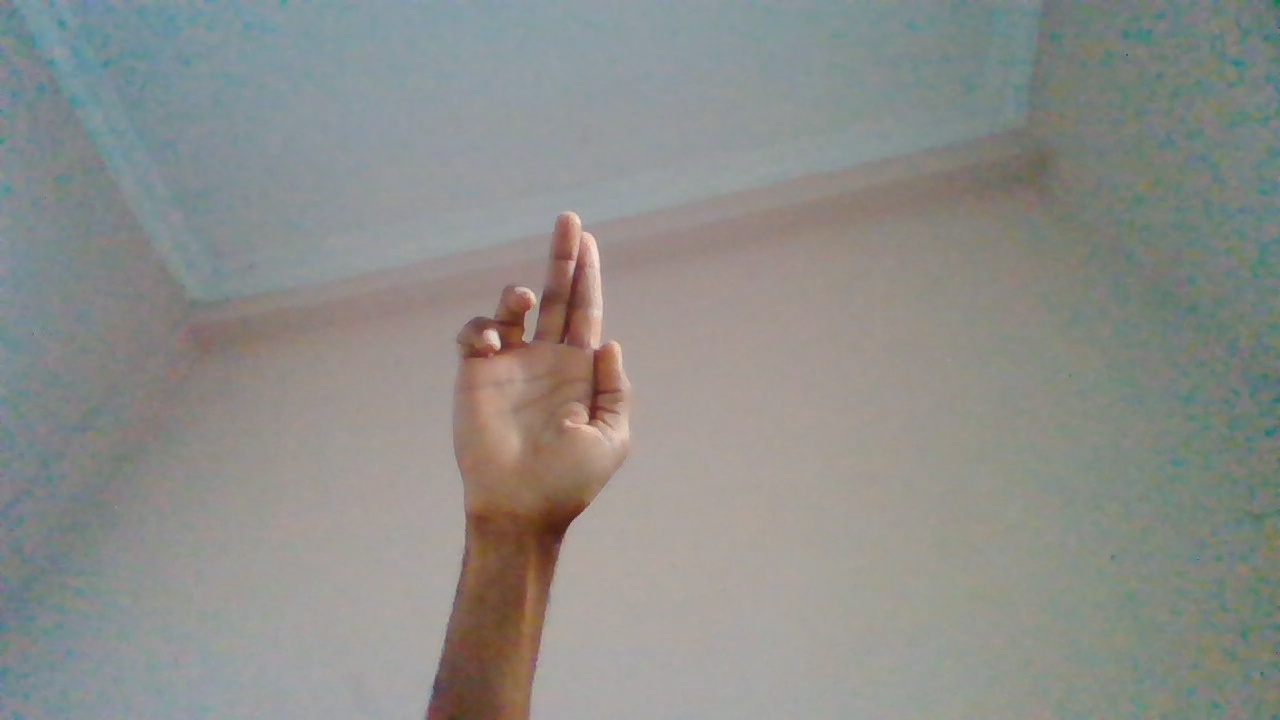gne: (452, 206, 634, 651)
